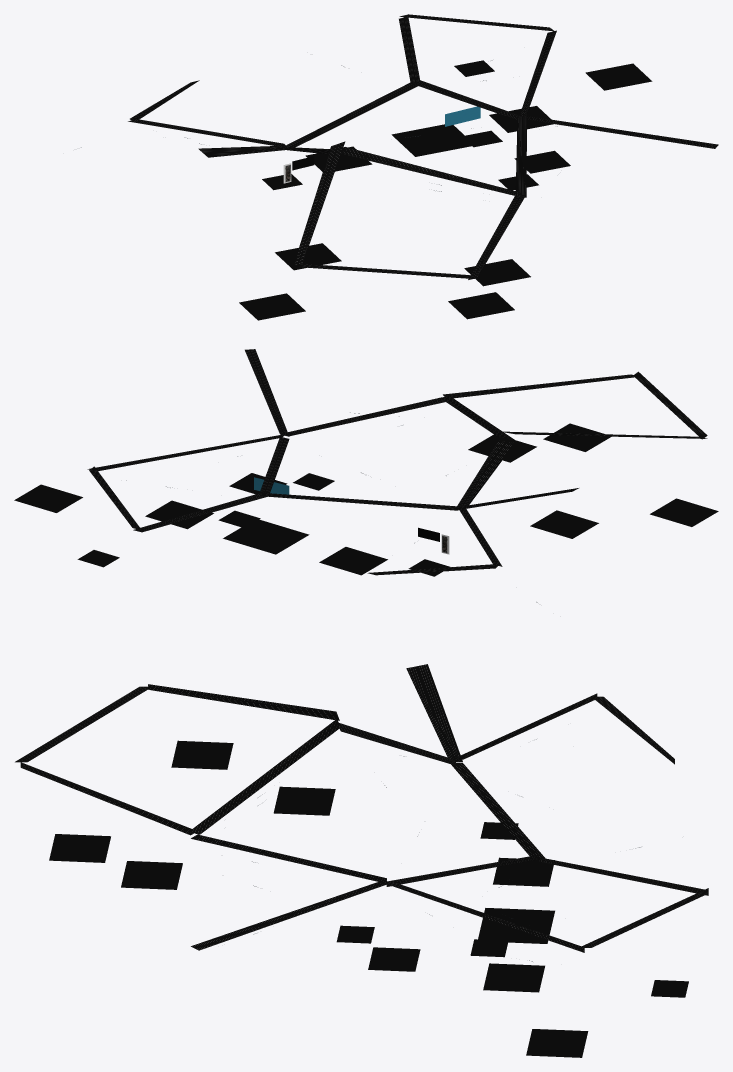
File: snpedteew8_las03.obj
3 views of the same model, one above another, from view 1: azimuth 30°, elevation 25°; view 2: azimuth 150°, elevation 25°; view 3: azimuth 270°, elevation 25° (orthographic). The views are drawn at different scales.
Parts seen in each view (by area): view 1: snpedteew8_las03; view 2: snpedteew8_las03; view 3: snpedteew8_las03.
Boxes of the visible parts, x1,y1,x2,y2 form: snpedteew8_las03: (81, 14, 718, 320); snpedteew8_las03: (14, 349, 718, 602); snpedteew8_las03: (15, 664, 708, 1057).
Bounding box in the file's own units: 124 × 18.34 × 105.
